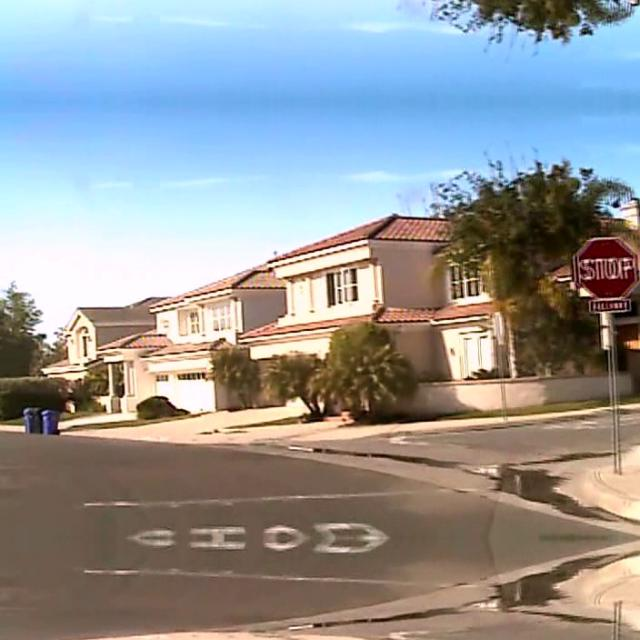stop: (572, 235, 638, 297)
